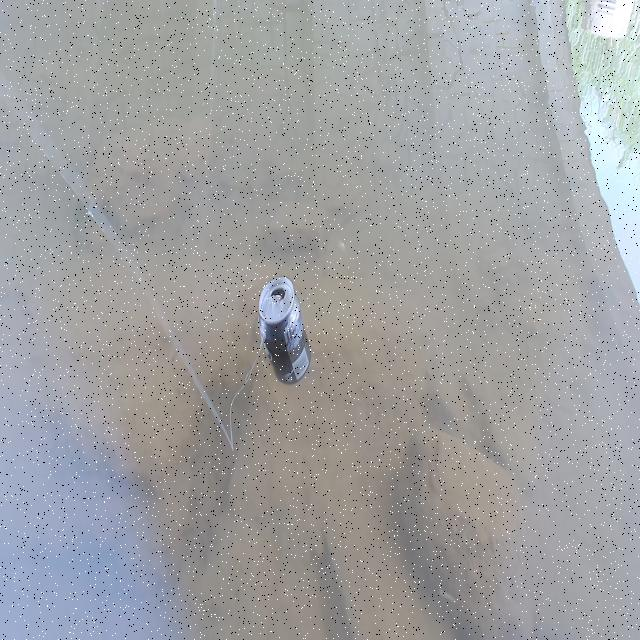Can: (255, 274, 311, 388)
